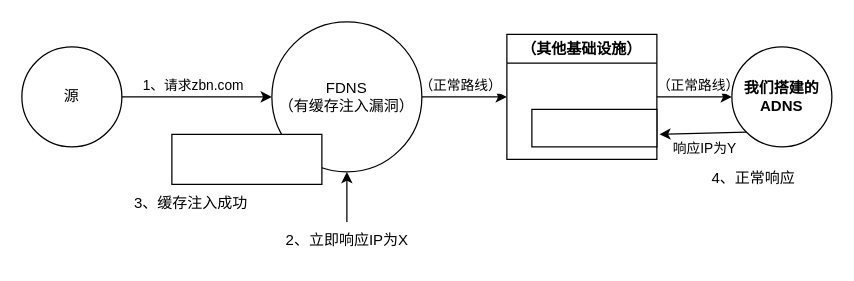
This 854x281 diagram has some shape labels left out. The centre of each missing label's shape, as x and y in pixels:
"缓存 zbn.com->X" goes at (246,158).
"缓存 zbn.com->Y" goes at (594,127).
